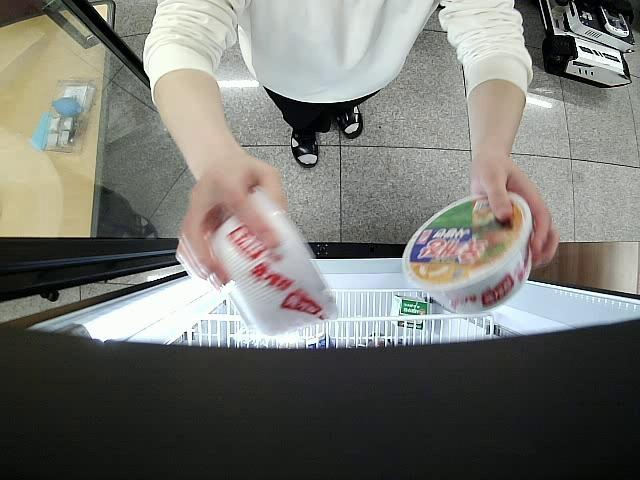09_yukGaeJang: (206, 187, 340, 336), (402, 188, 534, 316)
